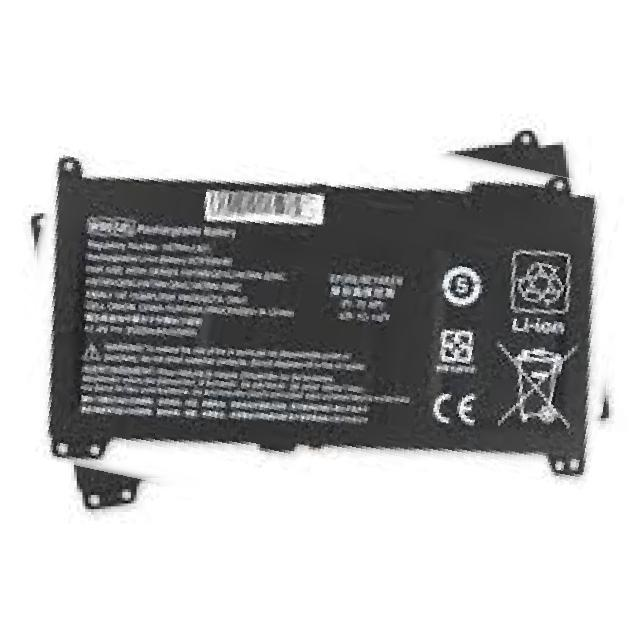Battery: (18, 136, 625, 491)
